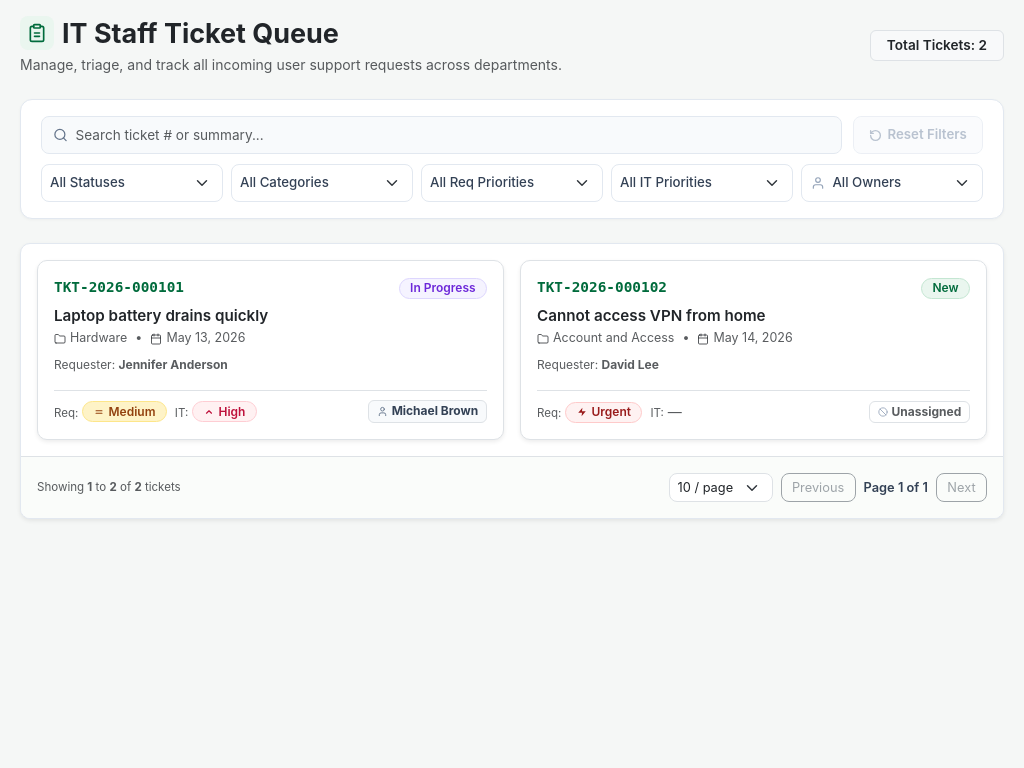
it: StaffTicketQueue Component (StaffTicketQueue.test.tsx) › UI-05: Empty & No-Results States › displays no-results state with 'Reset Filters' button when filter returns zero results
The width and height of the screenshot is (1024, 768).
Type "nonexistent-query" into the field with test id "staff-queue-search-input". click: (442, 135)
box: [41,116,842,154]
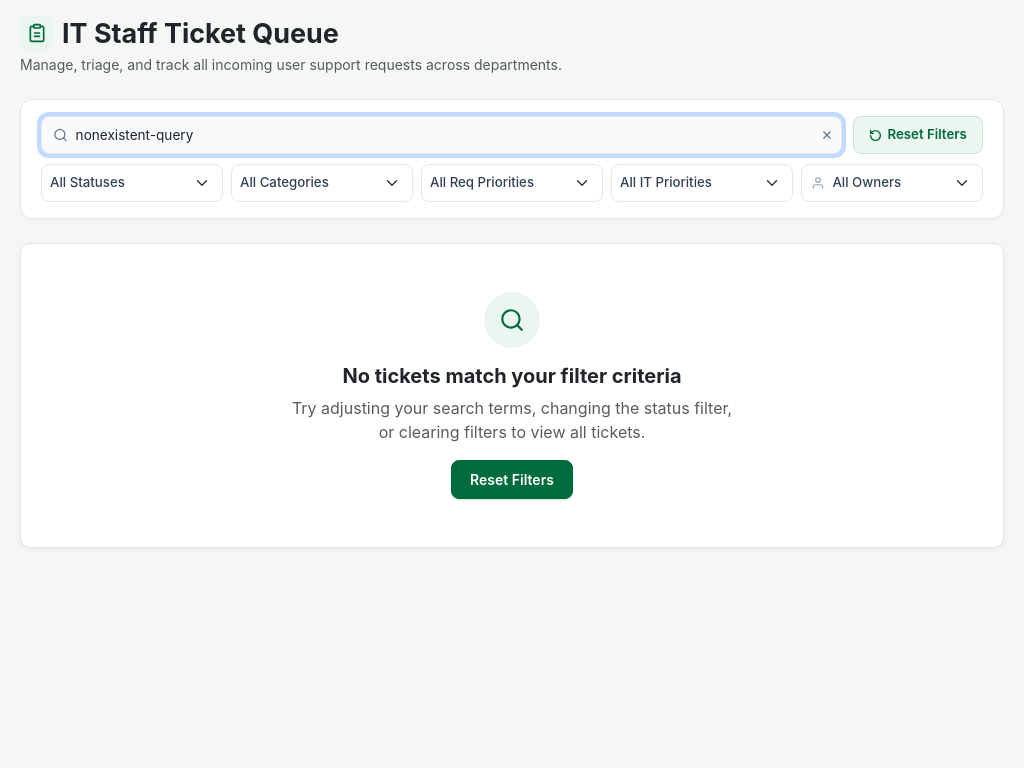
Now the element with test id "staff-queue-no-results" is shown, box [20,243,1004,548]
Now the heading "No tickets match your filter criteria" is shown, box [342,364,682,388]
Now the button with test id "no-results-reset-btn" is shown
Click the button with test id "no-results-reset-btn". click: (512, 480)
box: [451,460,573,499]
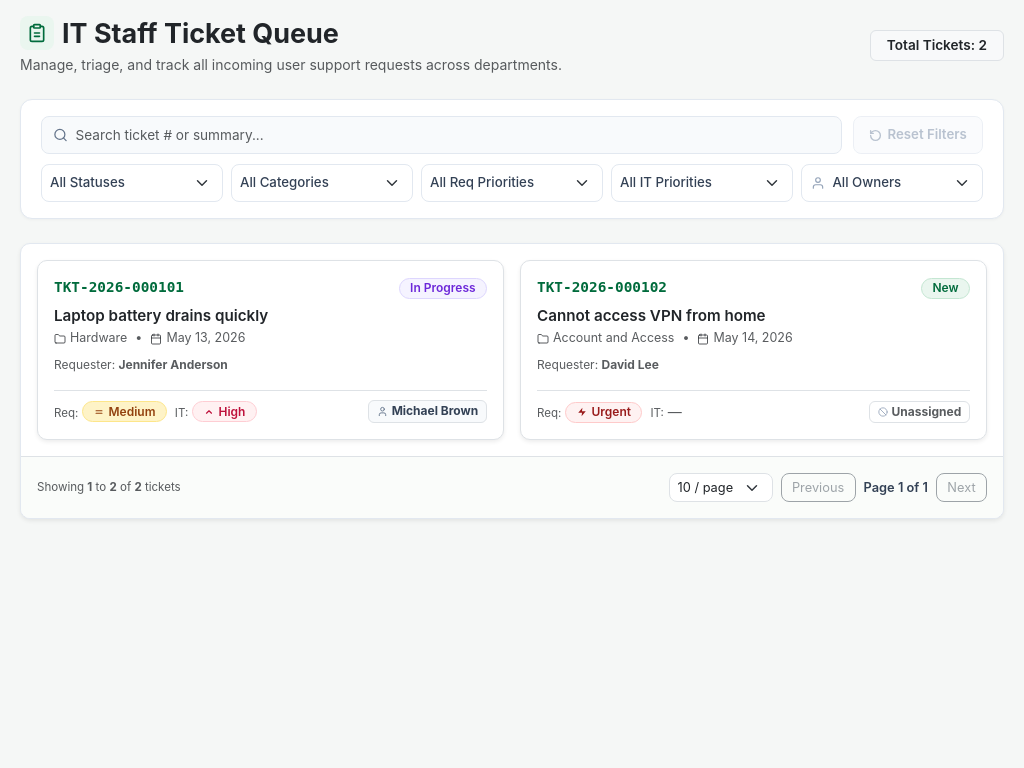
Now the element with test id "staff-queue-no-results" is gone
